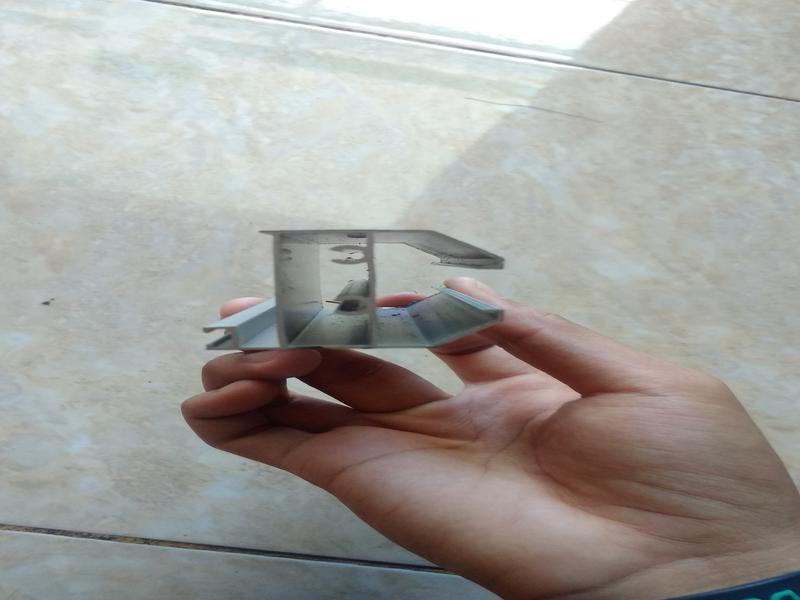Aluminium_3: (189, 213, 526, 361)
